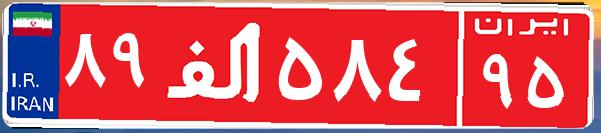4: (385, 28, 445, 110)
5: (273, 28, 330, 110), (525, 38, 570, 115)
8: (330, 28, 385, 110), (57, 26, 110, 107)
9: (475, 38, 525, 113), (110, 28, 158, 105)
الف: (158, 15, 273, 115)
